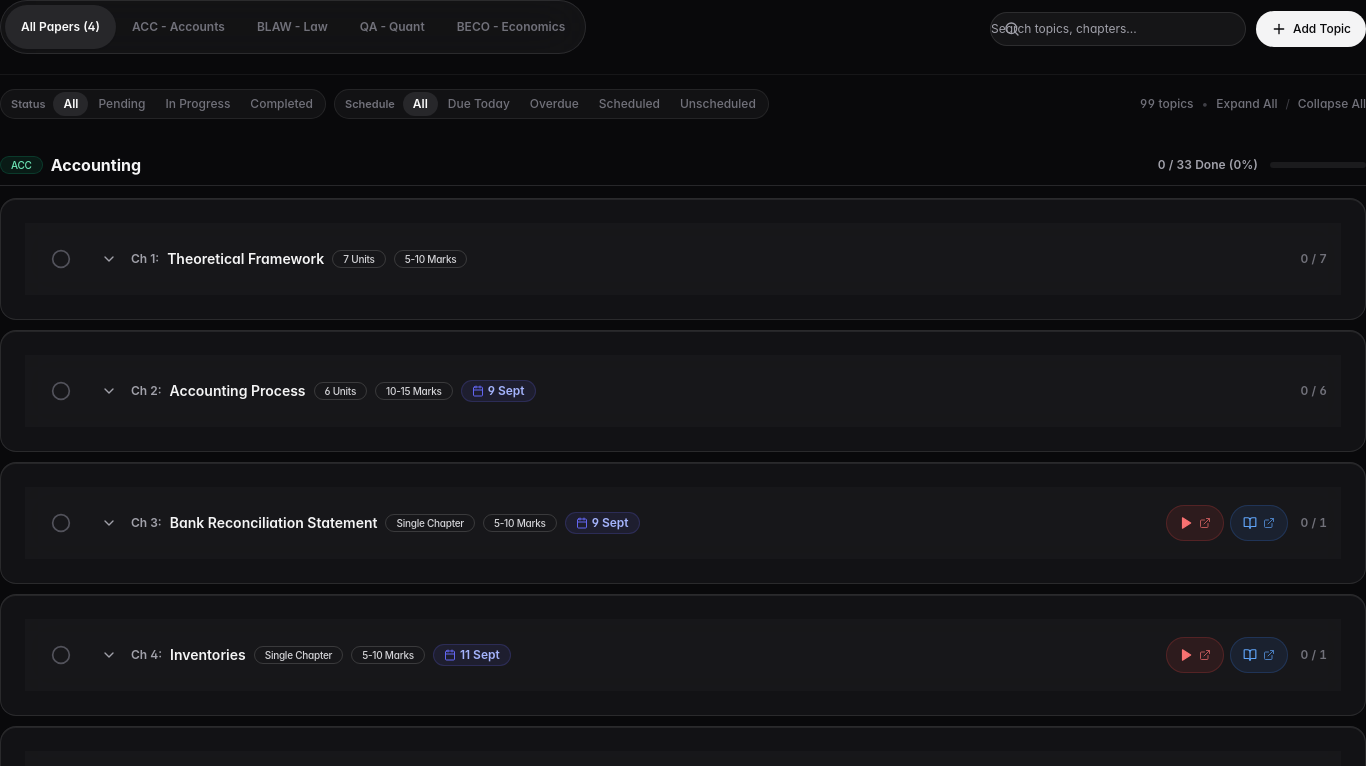
Test: Tier 1 - Feature 11: Custom Topic & Chapter Creation Modal › opens custom topic creation modal with input fields when clicked
The width and height of the screenshot is (1366, 766).
Click the button "Add Topic". click: (1311, 29)
box: [1256, 11, 1365, 47]
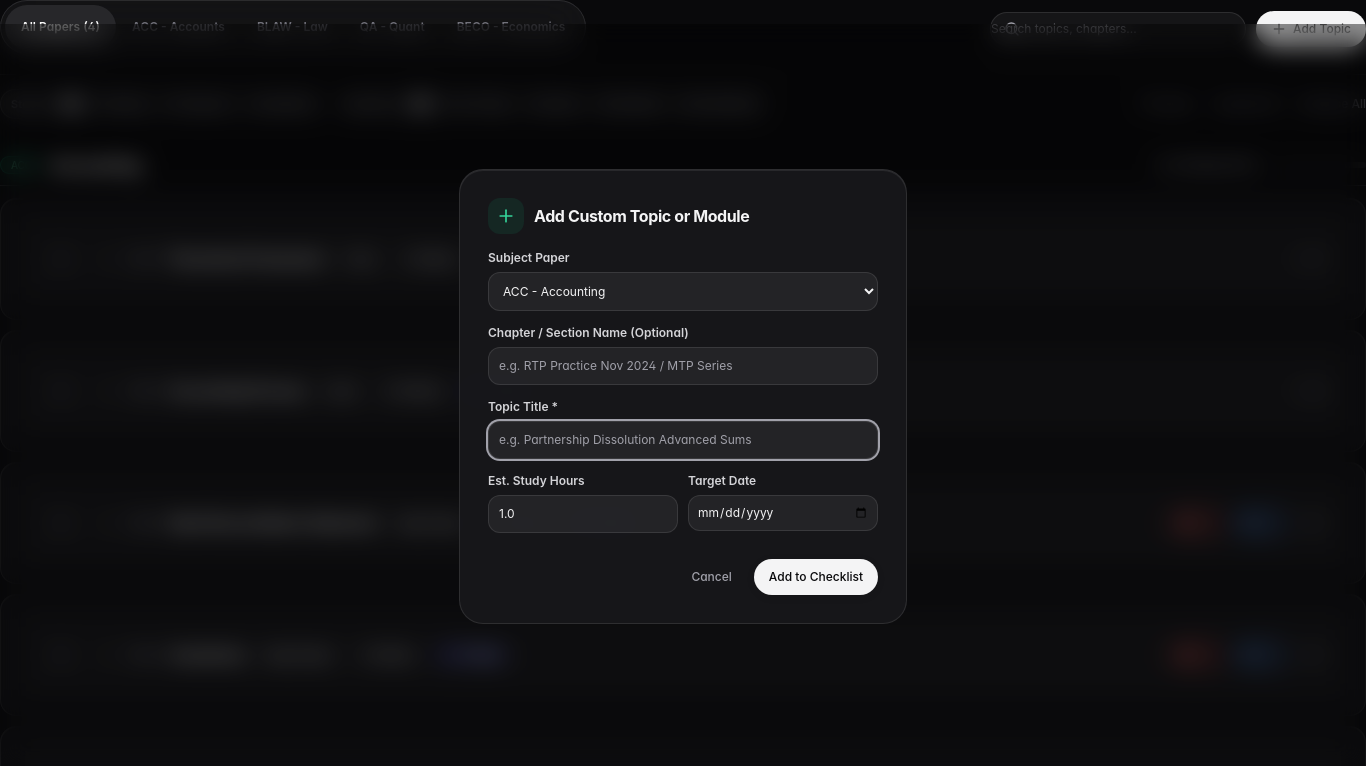
Check: the heading "Add Custom Topic or Module" is shown, box [534, 204, 749, 228]
Check: the field with placeholder "e.g. Partnership Dissolution Advanced Sums" is shown, box [488, 420, 878, 458]
